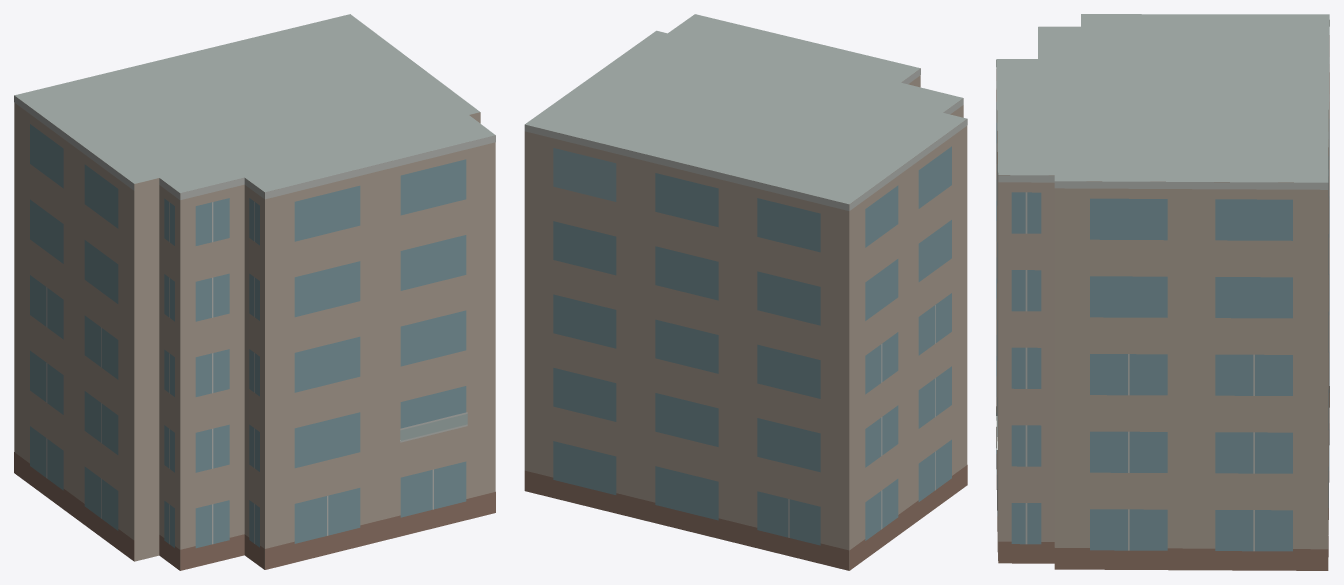
Rendered from survey-upis-32724932.glb.
3 views of the same model, side by side, from view 1: azimuth 30°, elevation 25°; view 2: azimuth 150°, elevation 25°; view 3: azimuth 270°, elevation 25° (orthographic). The views are drawn at different scales.
Visible parts, largest first — view 1: survey-upis-32724932.tmp; view 2: survey-upis-32724932.tmp; view 3: survey-upis-32724932.tmp.
Part boxes in pixels (x1,y1,x2,y2): survey-upis-32724932.tmp: [14, 14, 495, 570]; survey-upis-32724932.tmp: [524, 14, 967, 570]; survey-upis-32724932.tmp: [996, 14, 1329, 570].
Bounding box in the file's own units: 12.21 × 13.1 × 10.21.
